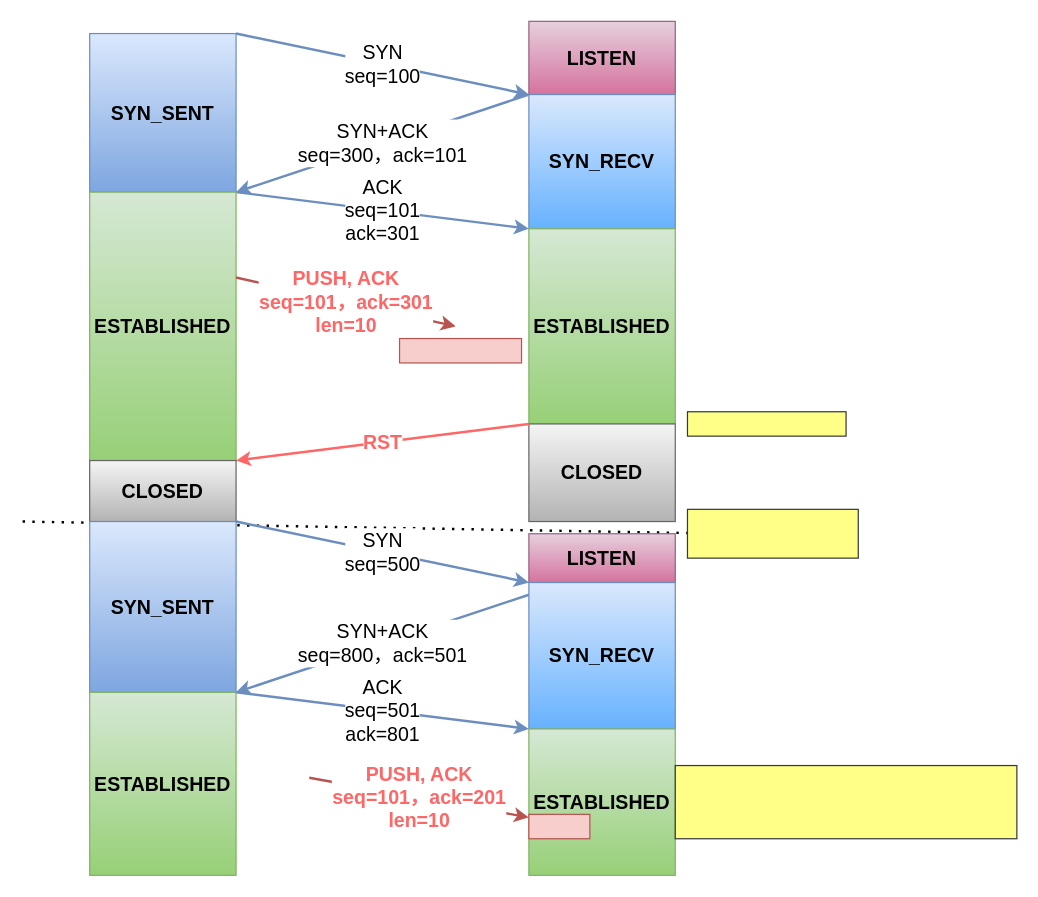
Some shapes in this 1038 by 897 pixel diagram are drawn without their labels. The shapes that lost their labels are listed below. From the top down, each one's centre as x and y in pixels, then its label:
At [460,350]: "被网络阻塞".
At [766,423]: "服务端进程重启".
At [772,533]: "建立与上一个连接 相同四元组的连接".
At [845,801]: "假设服务端的接口窗口的大小是100， 那么只有序列号在 501-601 范围 的报文才会接收，否则就丢弃".
At [559,826]: "丢弃".
